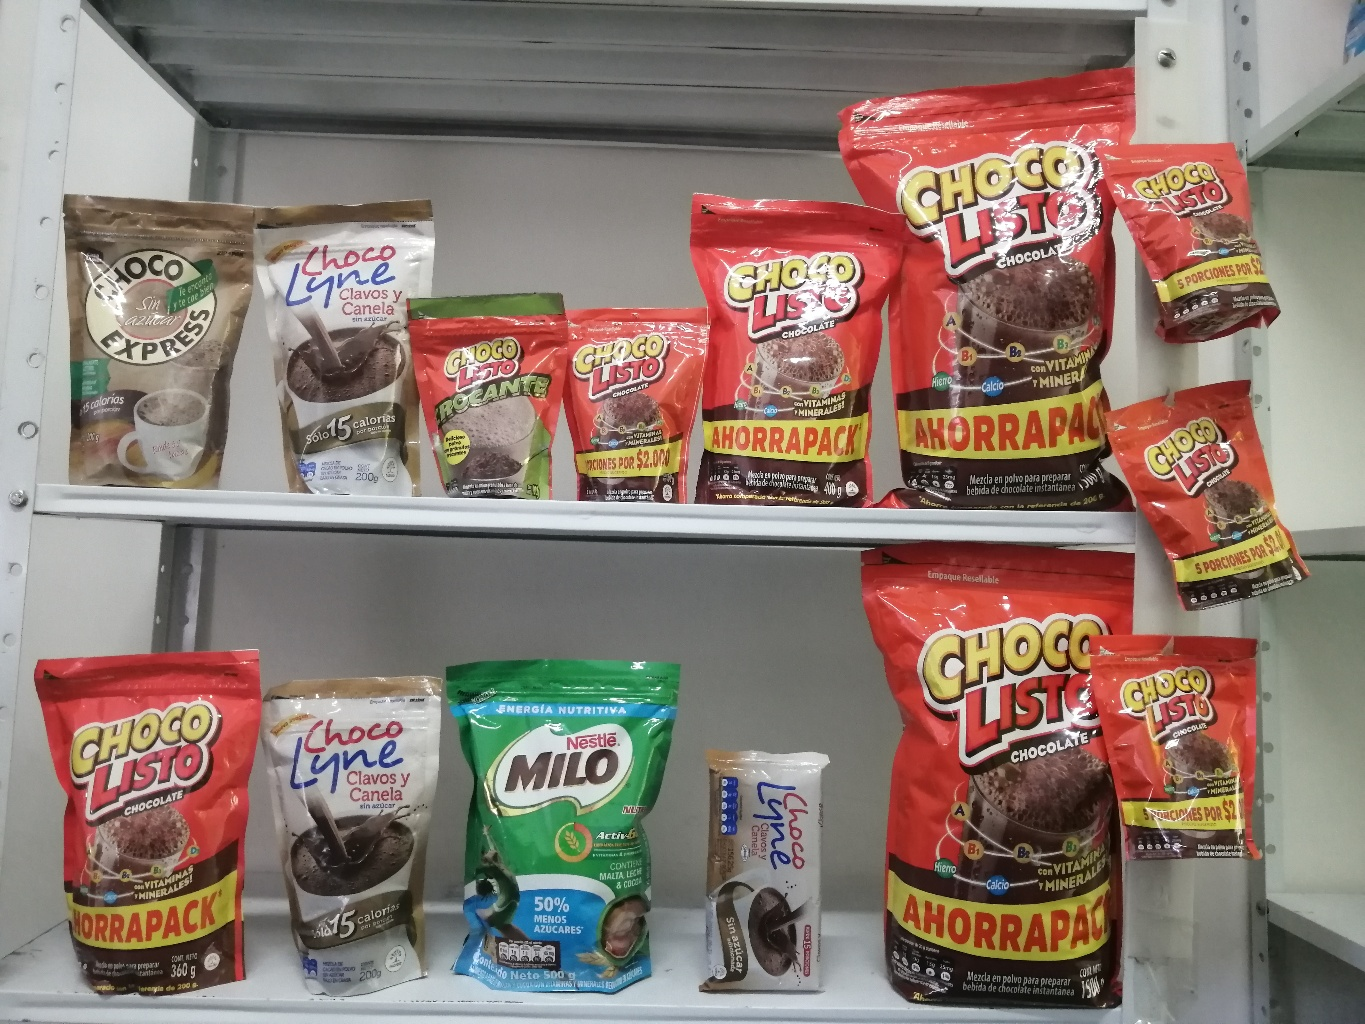COL0170102DYP10000: (399, 270, 587, 503)
COL0170103DYP1,500: (835, 49, 1163, 525)
COL0170103DYP10000: (1085, 111, 1299, 351)
COL0170103DYP36000: (19, 632, 270, 1002)
COL0170103DYP40000: (664, 170, 923, 513)
COL0170205DYP50000: (432, 650, 697, 1005)
